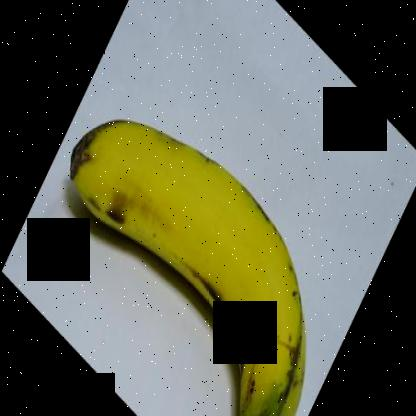freshripe: (61, 108, 318, 415)
